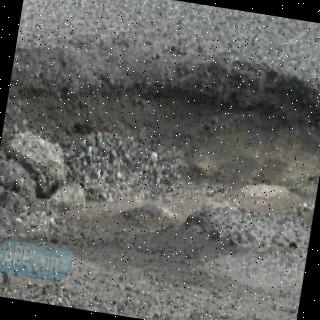pothole: (0, 37, 320, 311)
